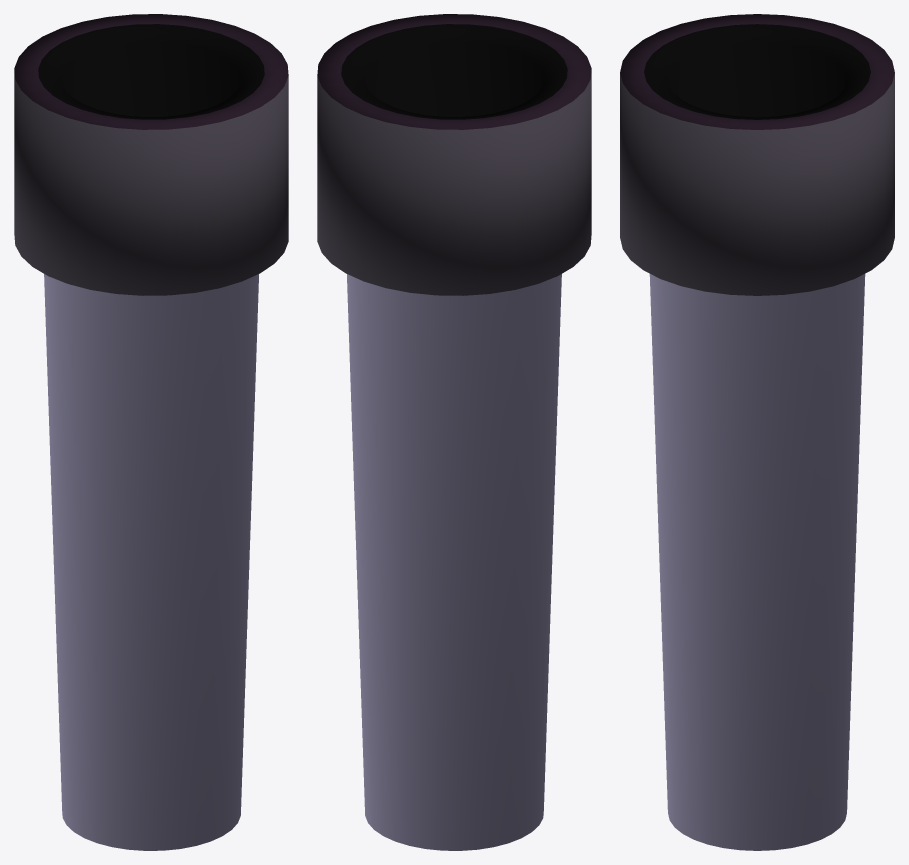
The model's file is TankBarrel.fbx.
3 views of the same model, side by side, from view 1: azimuth 30°, elevation 25°; view 2: azimuth 150°, elevation 25°; view 3: azimuth 270°, elevation 25° (orthographic).
Parts seen in each view (by area): view 1: Barrel; view 2: Barrel; view 3: Barrel.
Boxes of the visible parts, left/top/right/bottom form: Barrel: left=14, top=14, right=288, bottom=850; Barrel: left=317, top=14, right=591, bottom=850; Barrel: left=620, top=14, right=894, bottom=850.
Bounding box in the file's own units: 98.34 × 293 × 98.34.
